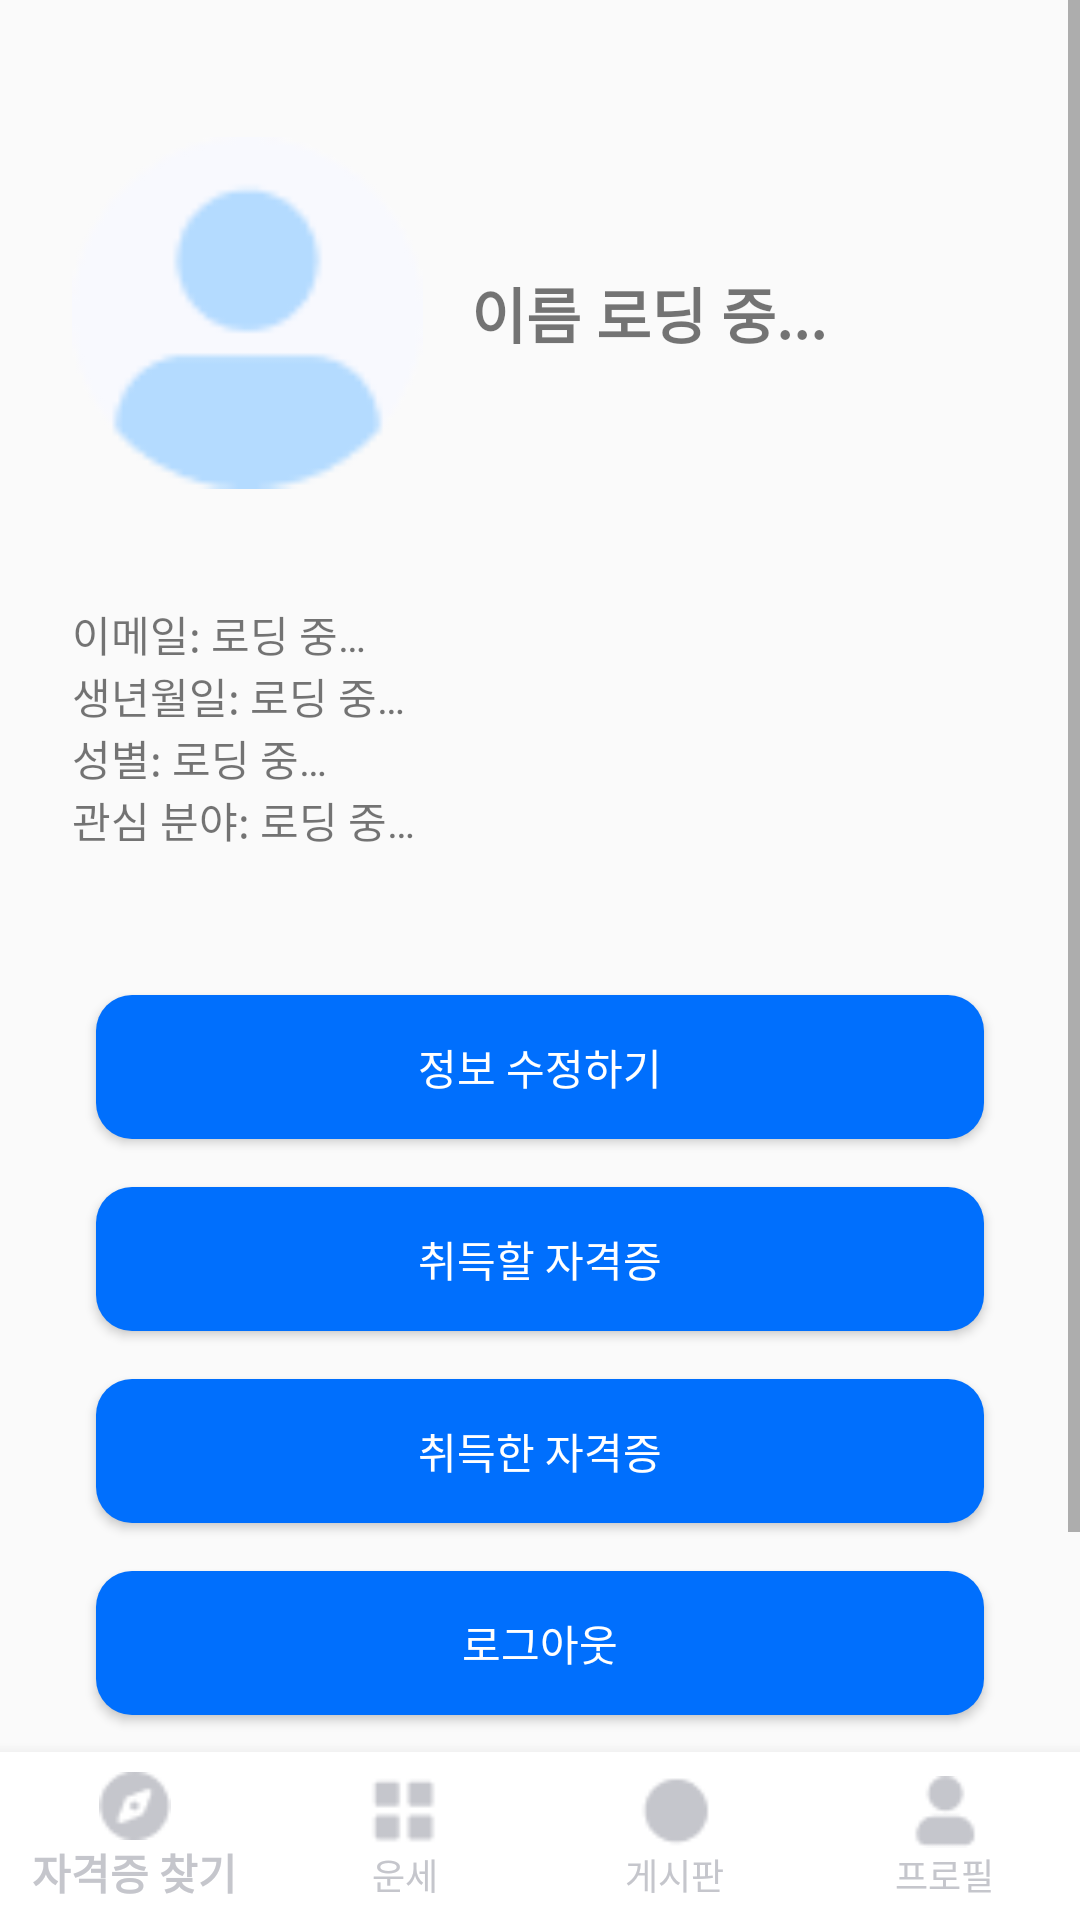

Locate icon controls on the screen. Image size 1080w x 1920h, boxes as (x1,y1,x2,y2).
프로필 이미지: (114,190,381,489)
